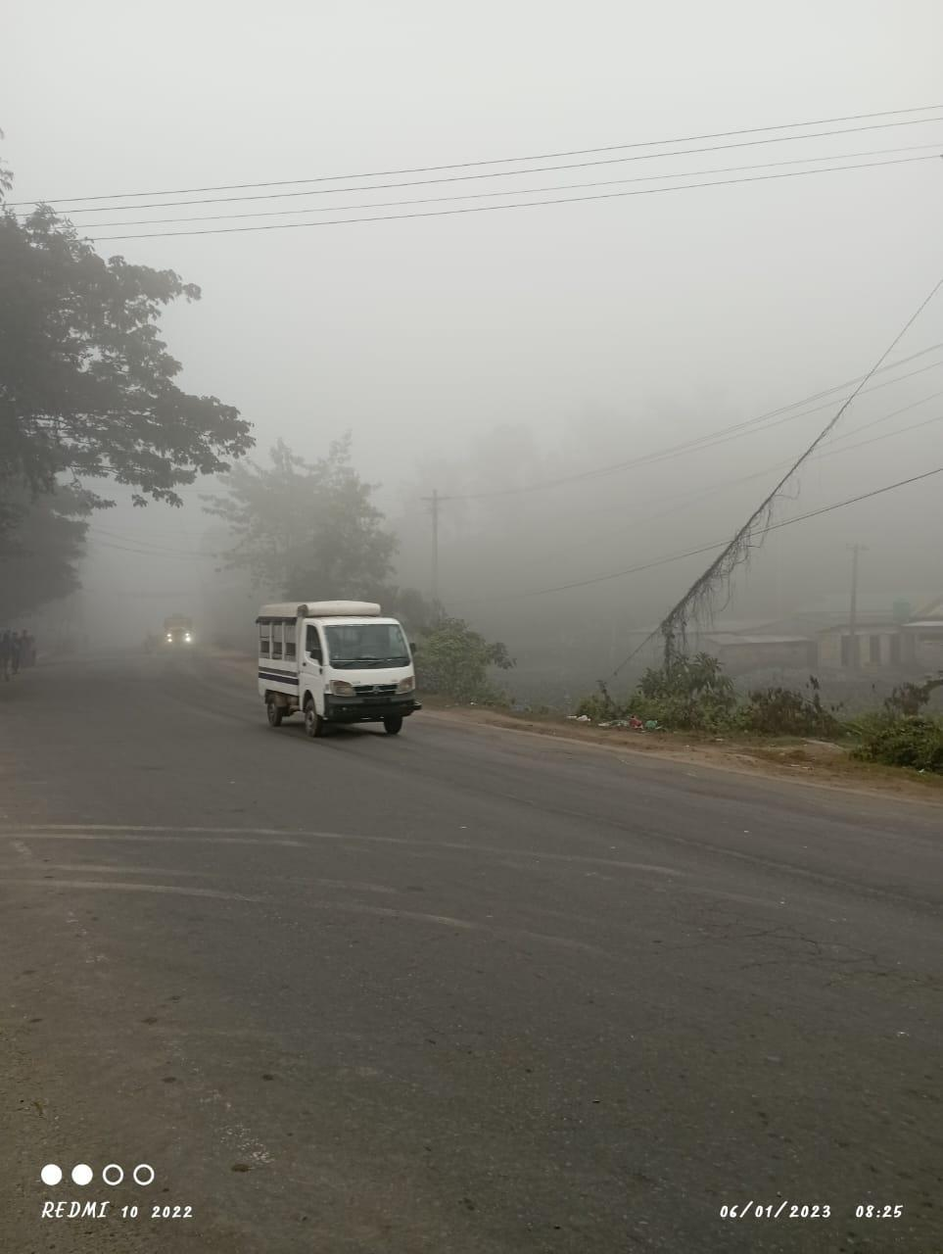Car: (233, 587, 427, 752)
